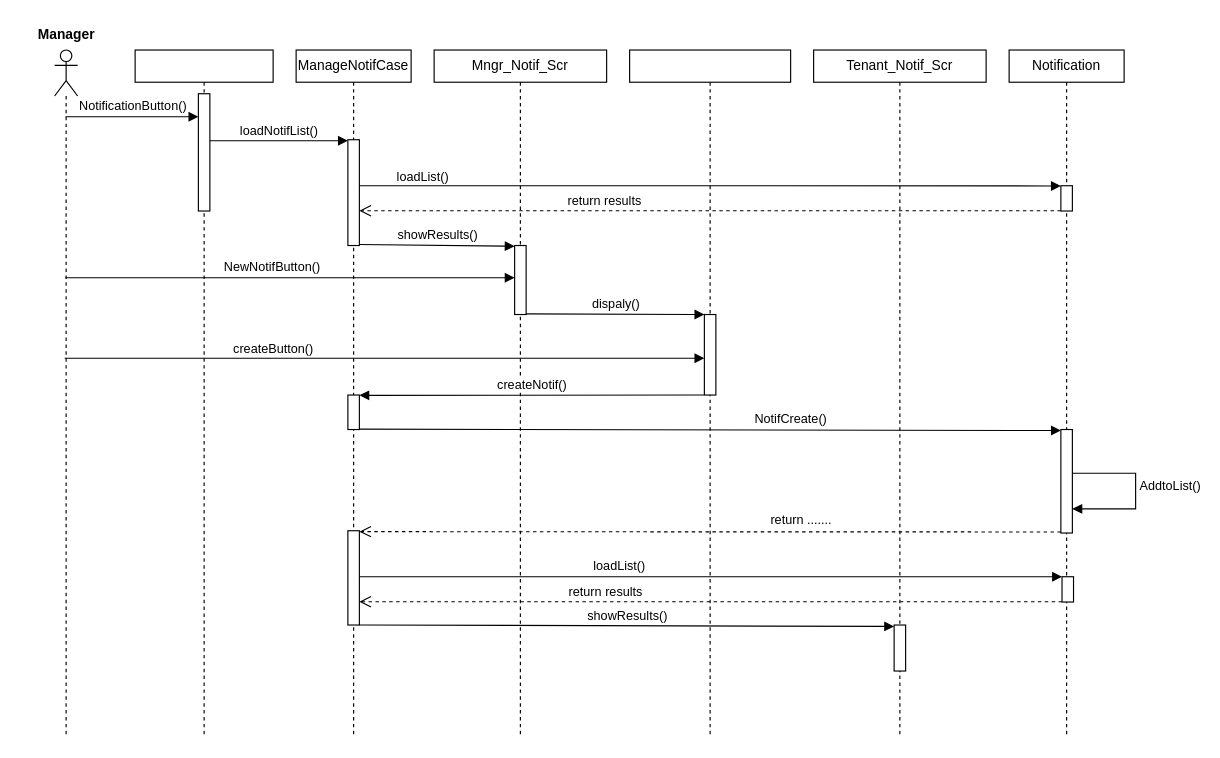
Image size: 1220x758. Some labels were removed from this diagram. The box of each missing label's shape, as (x1, y1, x2, y2) in pixels:
Mngr_Home_Scr: (134, 49, 273, 738)
Notif _Create_Scr: (628, 49, 791, 738)
